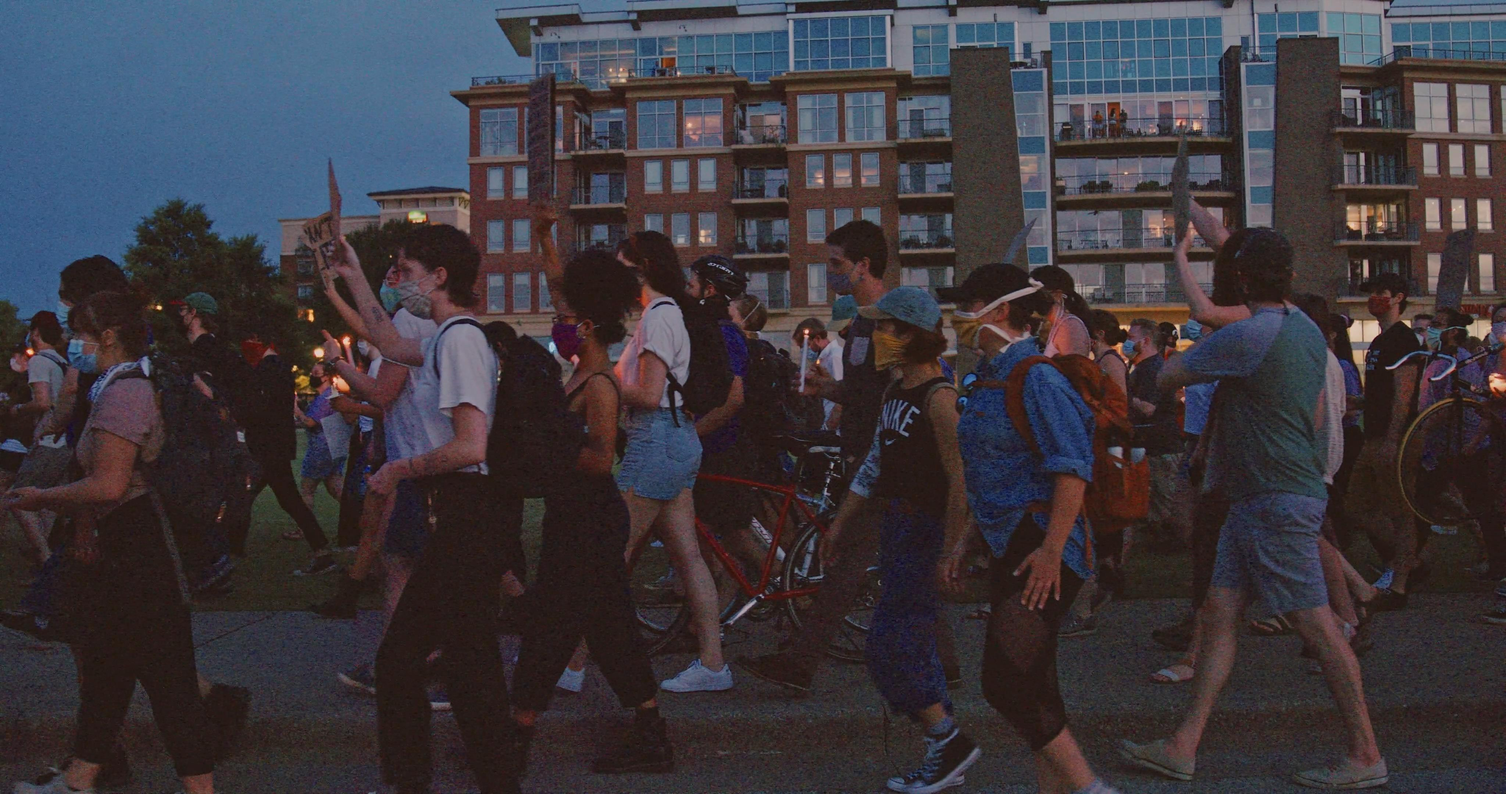helmet: (687, 253, 749, 307), (791, 318, 827, 363)
no-helmet: (935, 263, 1045, 352), (397, 223, 483, 320), (857, 286, 949, 372), (66, 289, 149, 375), (550, 285, 628, 363), (615, 230, 686, 305), (824, 218, 889, 297), (1028, 264, 1089, 318), (168, 291, 218, 340), (1359, 272, 1410, 318), (1424, 308, 1474, 350), (1082, 308, 1128, 353), (1122, 318, 1162, 361), (20, 311, 62, 350), (308, 360, 339, 390), (1490, 302, 1506, 343)
